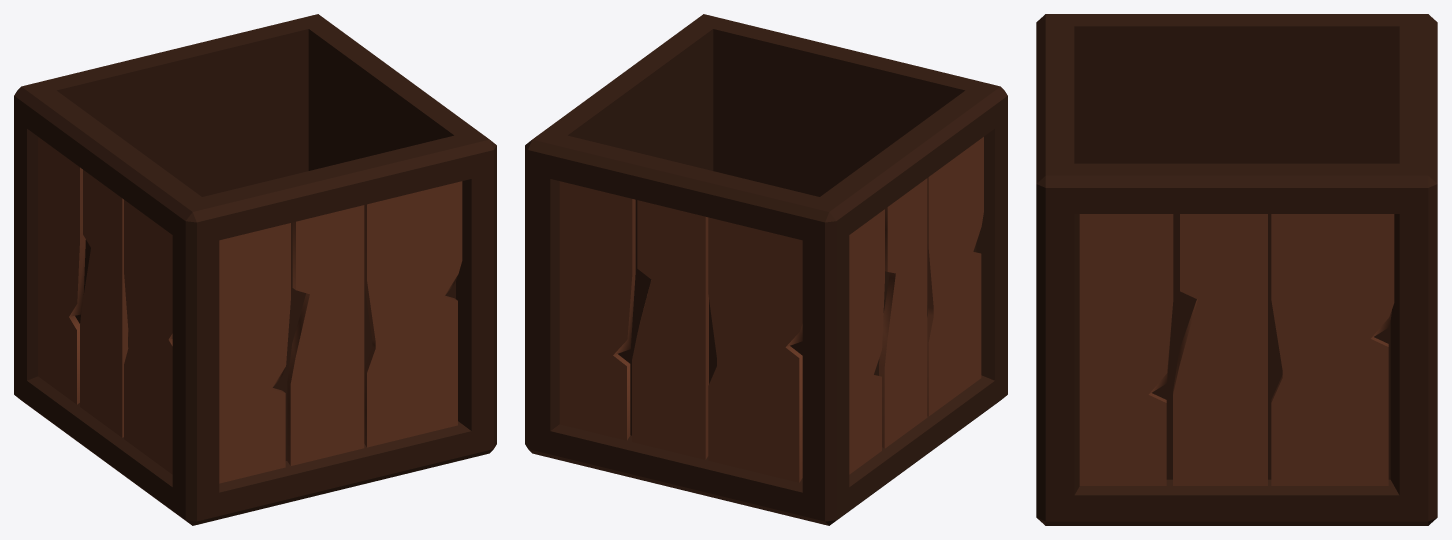
File: SM_crate_wooden_02.fbx
3 views of the same model, side by side, from view 1: azimuth 30°, elevation 25°; view 2: azimuth 150°, elevation 25°; view 3: azimuth 270°, elevation 25° (orthographic). The views are drawn at different scales.
Parts seen in each view (by area): view 1: Box048; view 2: Box048; view 3: Box048.
Part boxes in pixels (bbox=[...]): Box048: bbox=[14, 14, 496, 525]; Box048: bbox=[525, 14, 1007, 525]; Box048: bbox=[1036, 14, 1437, 525].
Size of the model in its own units: 26.68 by 25.71 by 26.68.
